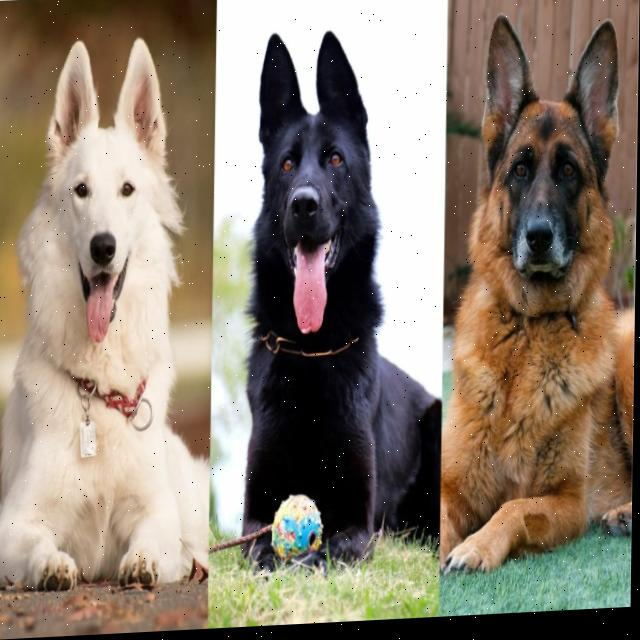GERMAN_SHEPHERD: (442, 1, 640, 587)
